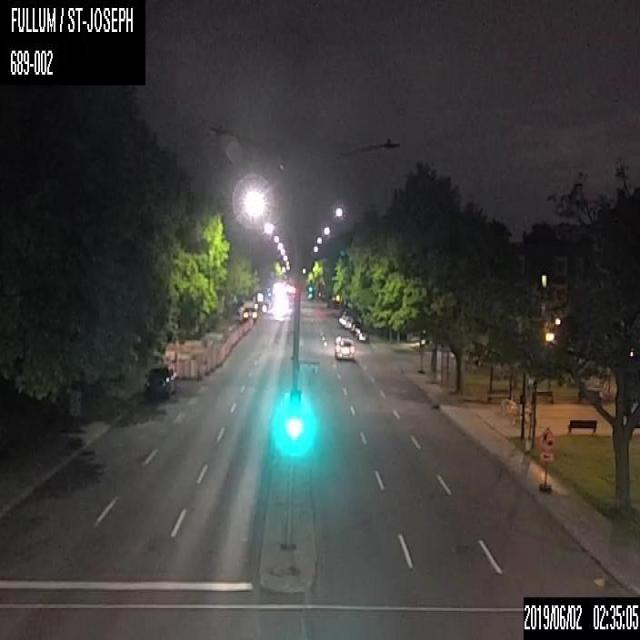construction: (538, 424, 556, 493), (174, 359, 182, 380), (188, 359, 196, 379), (181, 358, 188, 380)
vehicle: (142, 365, 172, 400), (332, 336, 355, 363), (242, 305, 256, 319), (356, 327, 368, 341)
